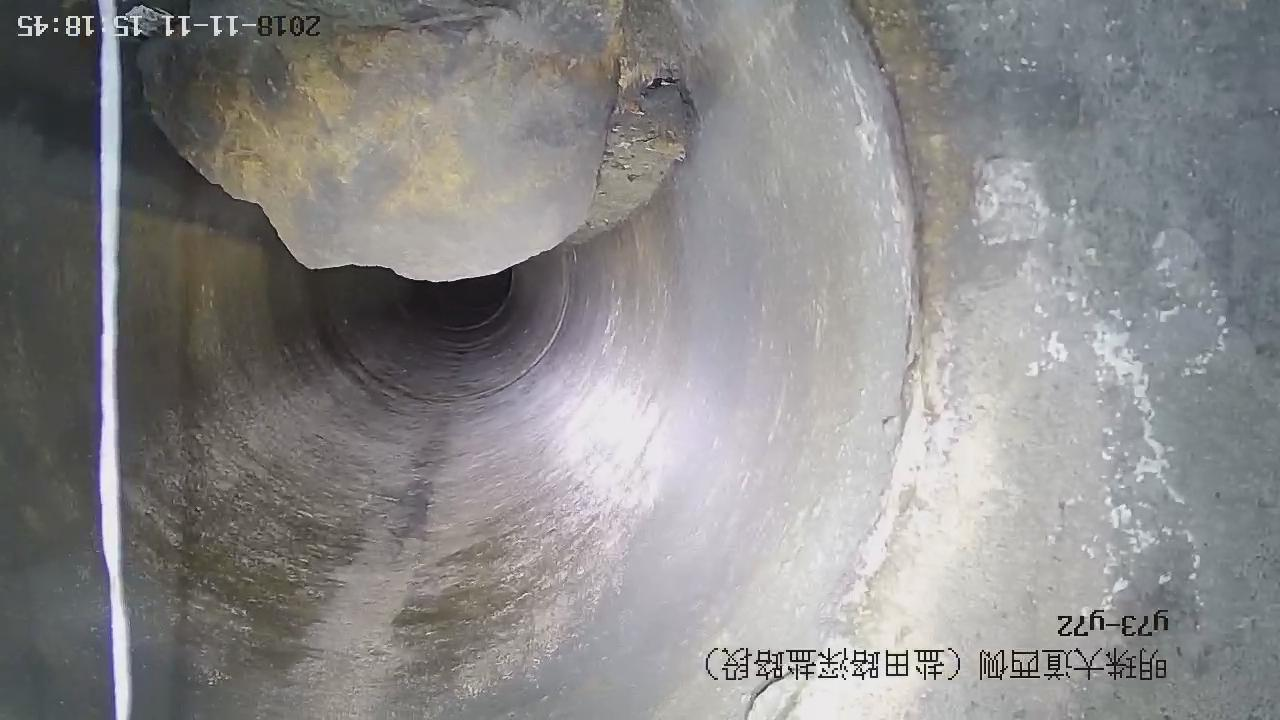ZAW: (140, 1, 663, 281)
